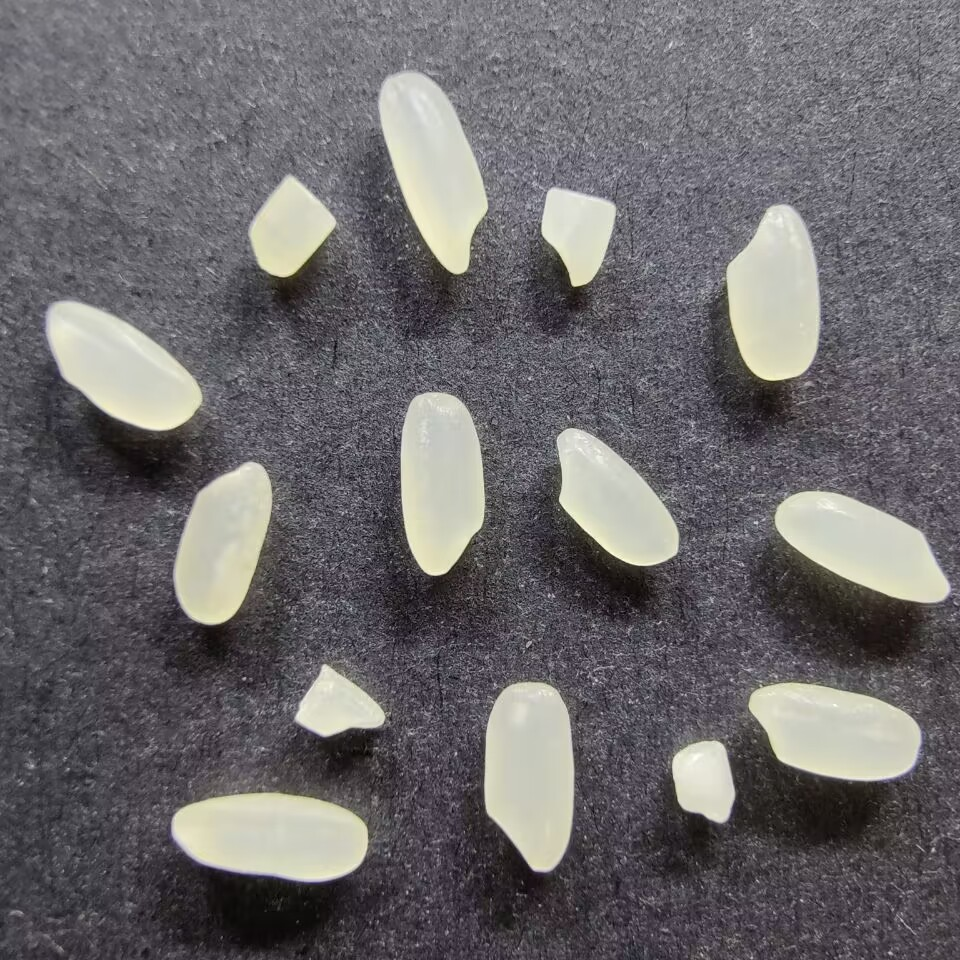broken: (245, 172, 340, 281), (540, 184, 621, 288), (291, 661, 387, 740), (672, 740, 735, 825)
rice: (375, 69, 493, 276), (43, 301, 206, 433), (772, 489, 952, 606), (168, 791, 369, 885), (480, 680, 577, 874), (552, 427, 683, 567), (722, 201, 823, 382), (746, 682, 922, 782), (171, 459, 273, 625), (397, 391, 486, 578)
